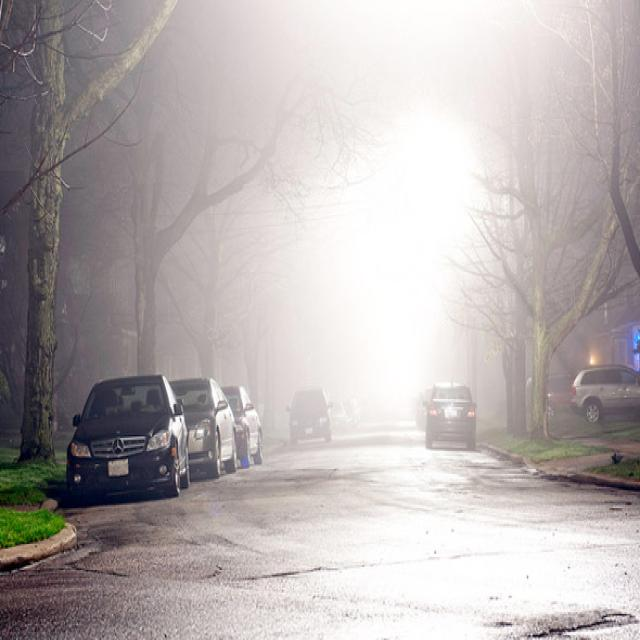car: (58, 375, 190, 503), (170, 376, 236, 479), (569, 364, 639, 426), (422, 381, 476, 448), (222, 384, 262, 466), (287, 386, 331, 445), (326, 394, 349, 437), (418, 384, 430, 424)
